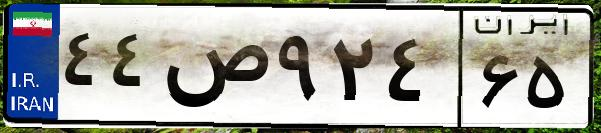2: (330, 28, 385, 110)
4: (385, 28, 445, 110), (57, 26, 110, 100), (110, 28, 158, 98)
5: (525, 38, 570, 115)
6: (475, 38, 525, 113)
9: (270, 28, 330, 110)
ص: (158, 20, 270, 120)
